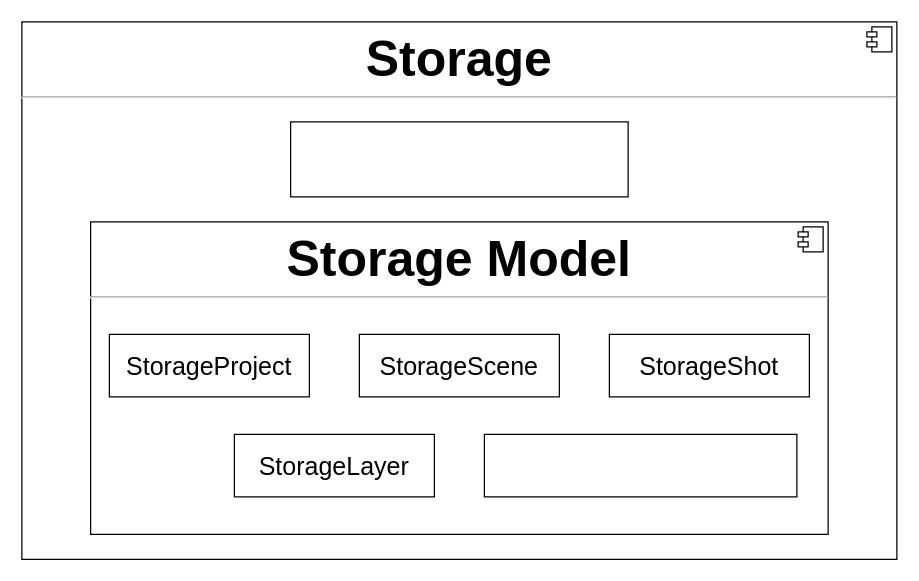
Image size: 919x581. Some labels were removed from this diagram. The centre of each missing label's shape, as x and y in pixels:
StorageLayerComponent: the point at 640,465
StorageManager: the point at 458,159
